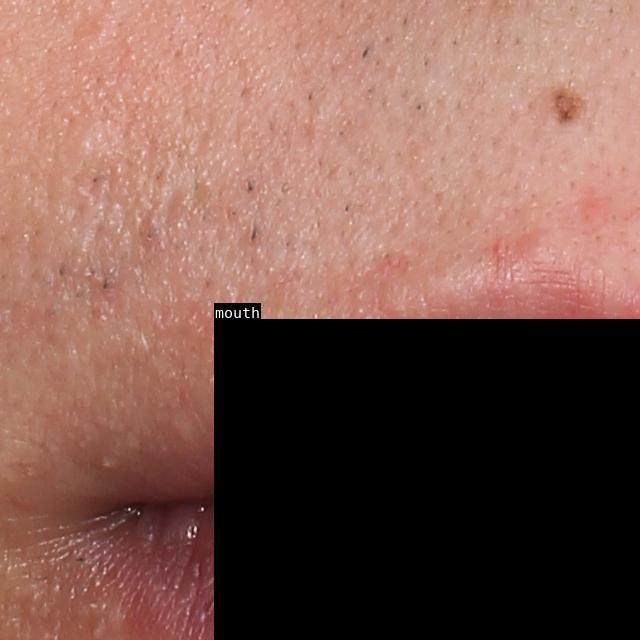comedo: (75, 133, 106, 161)
nevus: (551, 86, 586, 127)
